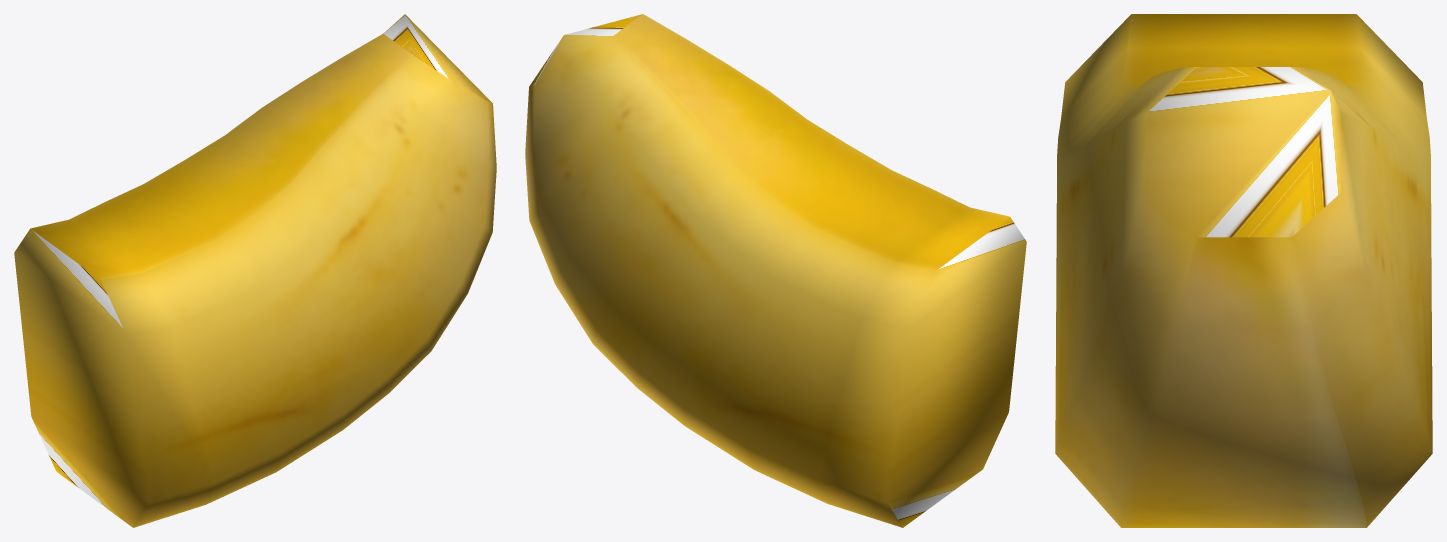
The model's file is h_banana.fbx.
3 views of the same model, side by side, from view 1: azimuth 30°, elevation 25°; view 2: azimuth 150°, elevation 25°; view 3: azimuth 270°, elevation 25° (orthographic). The views are drawn at different scales.
Visible parts, largest first — view 1: Cube; view 2: Cube; view 3: Cube.
Boxes of the visible parts, <box> form: Cube: <box>14,14,496,527</box>; Cube: <box>525,14,1026,527</box>; Cube: <box>1055,14,1432,527</box>.
Bounding box in the file's own units: 10.41 × 9.25 × 5.18.
